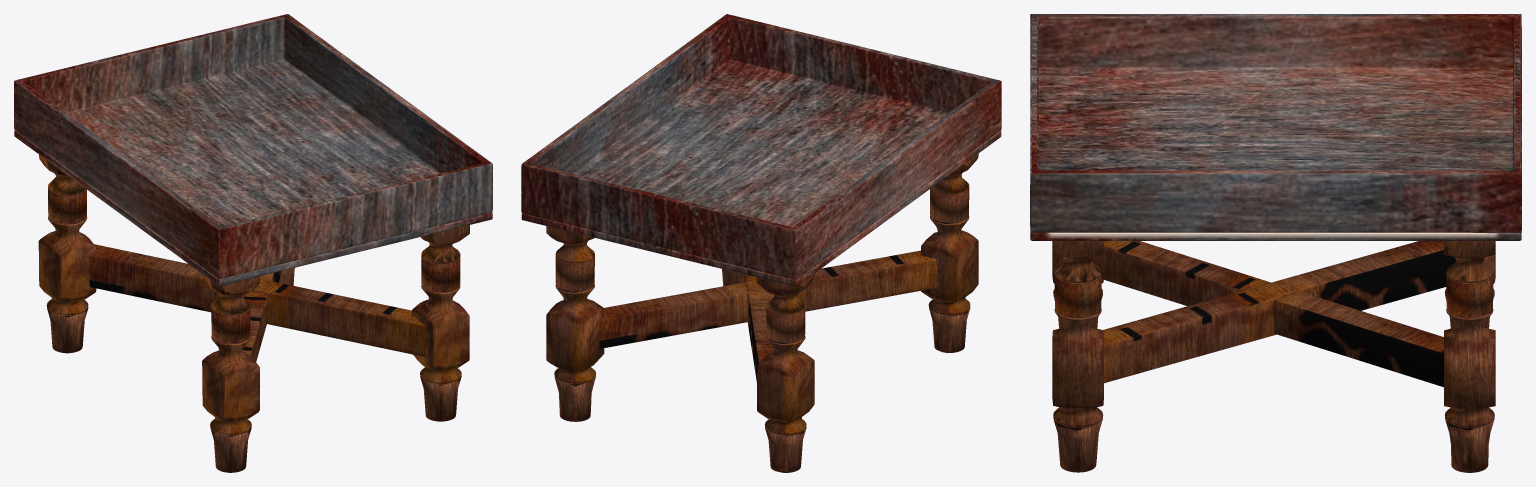
Rendered from tray_table.glb.
The picture shows the model from 3 angles, left to right: view 1: azimuth 30°, elevation 25°; view 2: azimuth 150°, elevation 25°; view 3: azimuth 270°, elevation 25°; orthographic projection. The views are drawn at different scales.
Visible parts, largest first — view 1: Box005, Box004, Line003; view 2: Box005, Box004, Line003; view 3: Box005, Line003, Box004.
Part boxes in pixels (box(x1,y1,x2,y2)): Box005: box(14, 14, 492, 285); Box004: box(38, 154, 469, 472); Line003: box(89, 244, 425, 361); Box005: box(521, 14, 1001, 286); Box004: box(546, 153, 978, 472); Line003: box(599, 250, 937, 381); Box005: box(1030, 14, 1521, 240); Line003: box(1092, 241, 1455, 387); Box004: box(1052, 241, 1495, 472).
Bounding box in the file's own units: 0.34 × 0.3064 × 0.44.
2 materials, 2 textured.
